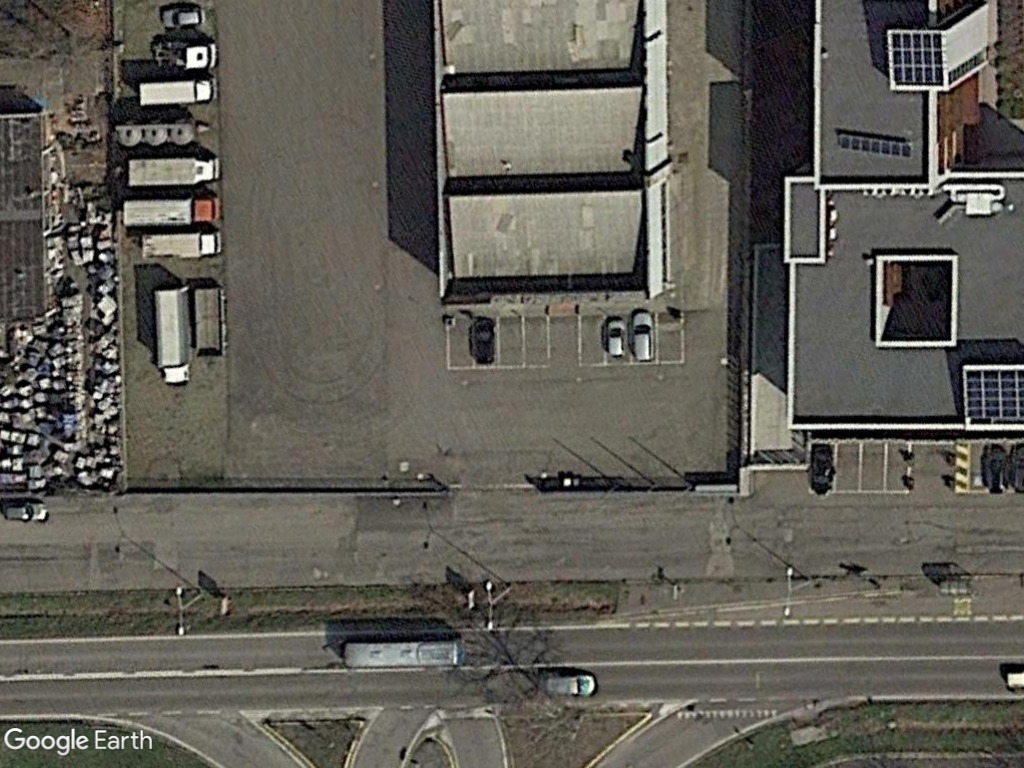bus: (334, 635, 468, 673)
car: (539, 670, 600, 702), (629, 307, 660, 366), (154, 2, 209, 30), (602, 312, 631, 362)
truck: (148, 283, 196, 389), (120, 191, 225, 228), (124, 152, 226, 188), (135, 231, 226, 262), (136, 76, 218, 109)
